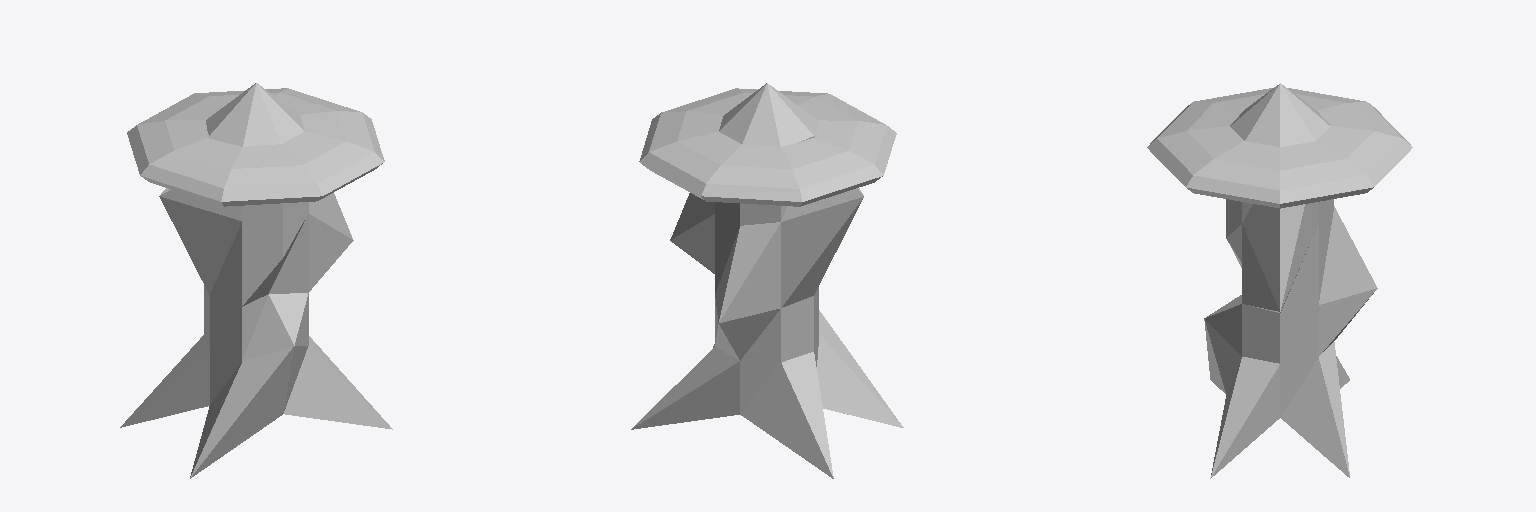
The model's file is building100.obj.
3 views of the same model, side by side, from view 1: azimuth 30°, elevation 25°; view 2: azimuth 150°, elevation 25°; view 3: azimuth 270°, elevation 25° (orthographic).
Visible parts, largest first — view 1: pCylinder1, pSphere1; view 2: pCylinder1, pSphere1; view 3: pCylinder1, pSphere1.
Boxes of the visible parts, x1,y1,x2,y2 form: pCylinder1: [120, 83, 392, 478]; pSphere1: [127, 88, 384, 206]; pCylinder1: [631, 83, 903, 478]; pSphere1: [639, 88, 896, 206]; pCylinder1: [1204, 83, 1377, 478]; pSphere1: [1147, 87, 1412, 208].
Bounding box in the file's own units: 9.84 × 14.06 × 9.82.